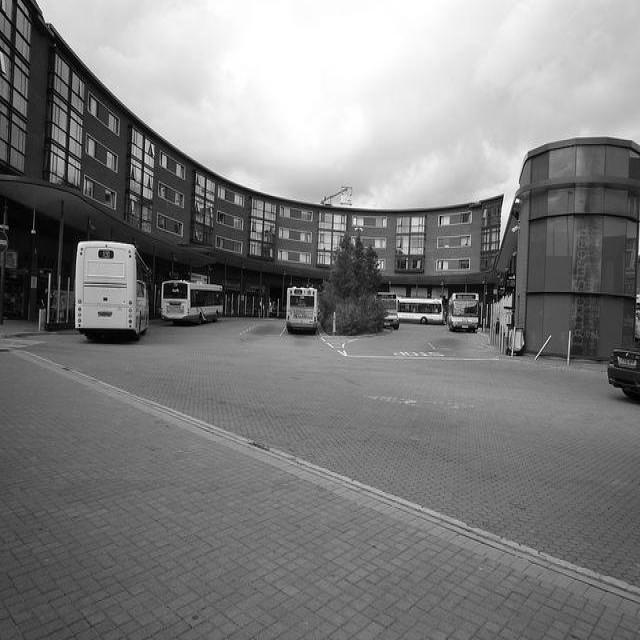vehicle: (75, 239, 155, 341), (159, 283, 233, 323), (606, 346, 640, 406), (397, 297, 447, 327), (286, 288, 316, 332), (448, 295, 480, 335), (378, 294, 400, 330)
